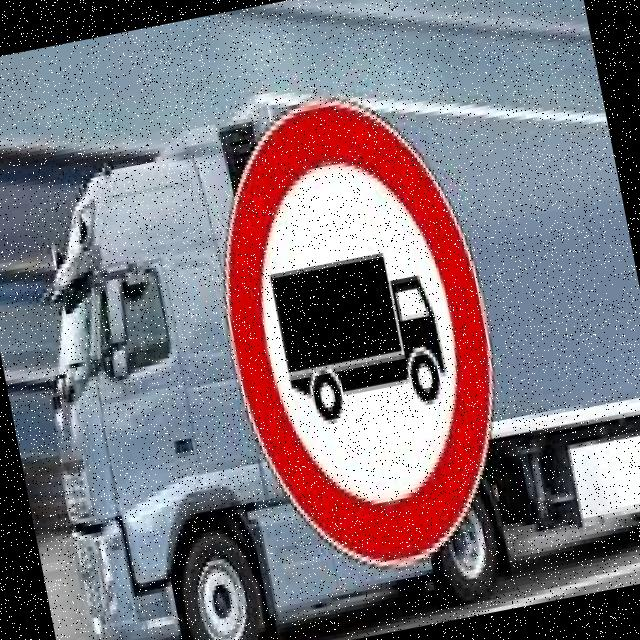do_not_enter: (185, 59, 534, 602)
